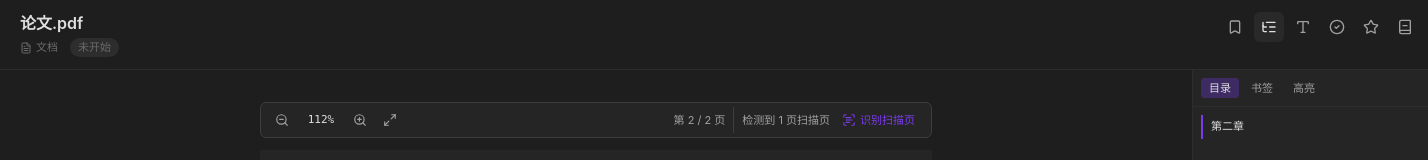
Test: ReadingView › PDF：提示扫描页，缓存的识别结果生成文本层；识别剩余页面后写入缓存并更新正文
Expected: the text "检测到 1 页扫描页" is shown, 742,112 -> 830,128
Click the button "识别扫描页": (878, 120) 834,107 -> 923,133
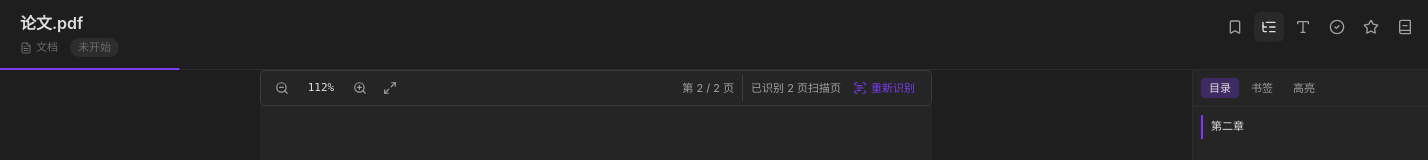
Result: the text "已识别 2 页扫描页" is shown at 751,80 -> 841,96
